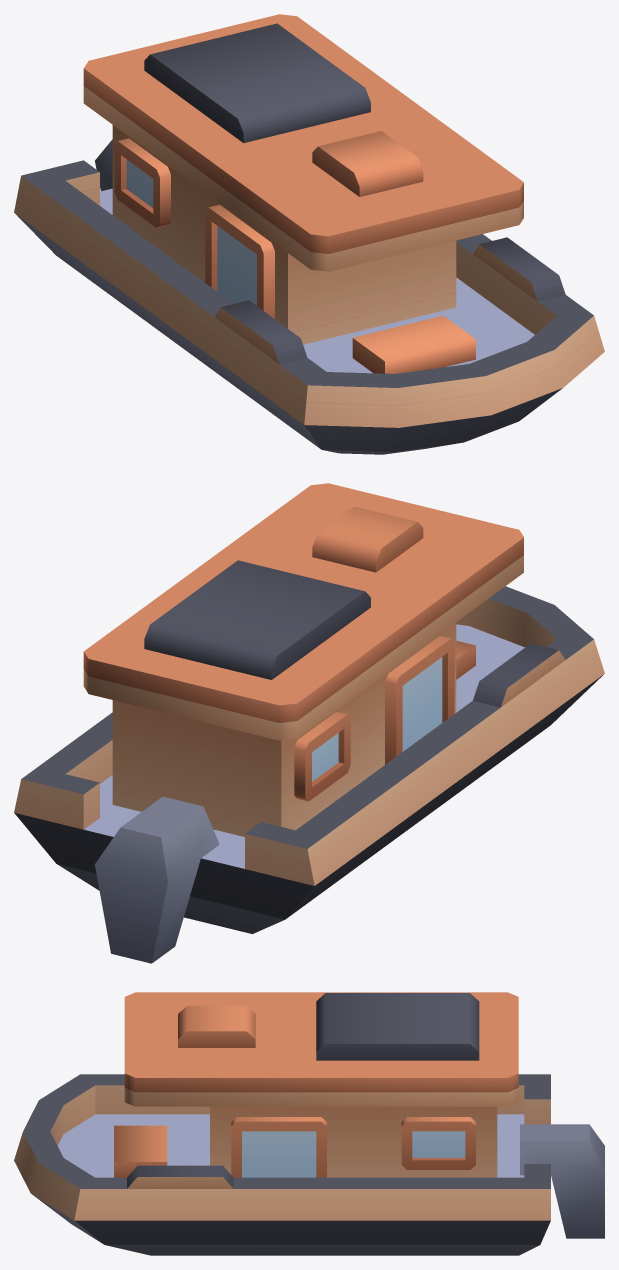
File: boat-house-b.glb
3 views of the same model, one above another, from view 1: azimuth 30°, elevation 25°; view 2: azimuth 150°, elevation 25°; view 3: azimuth 270°, elevation 25° (orthographic). The views are drawn at different scales.
Visible parts, largest first — view 1: boat-house-b; view 2: boat-house-b; view 3: boat-house-b.
Part boxes in pixels (x1=…): boat-house-b: x1=14, y1=14, x2=604, y2=454; boat-house-b: x1=14, y1=483, x2=604, y2=963; boat-house-b: x1=14, y1=992, x2=604, y2=1255.
Bounding box in the file's own units: 2.68 × 2.2 × 5.55.
1 material, 1 textured.
